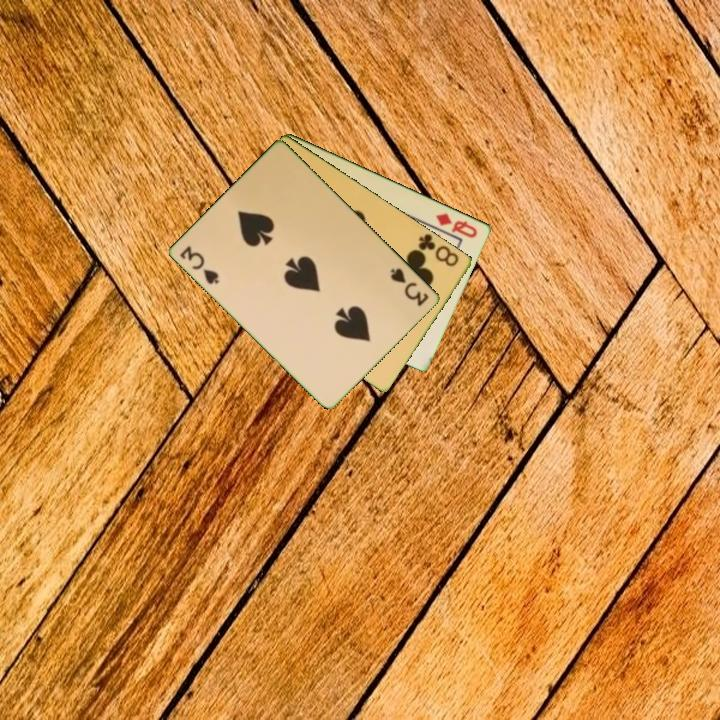3s: (387, 264, 432, 309), (177, 242, 222, 287)
8c: (413, 230, 462, 269)
Qd: (432, 209, 481, 241)
